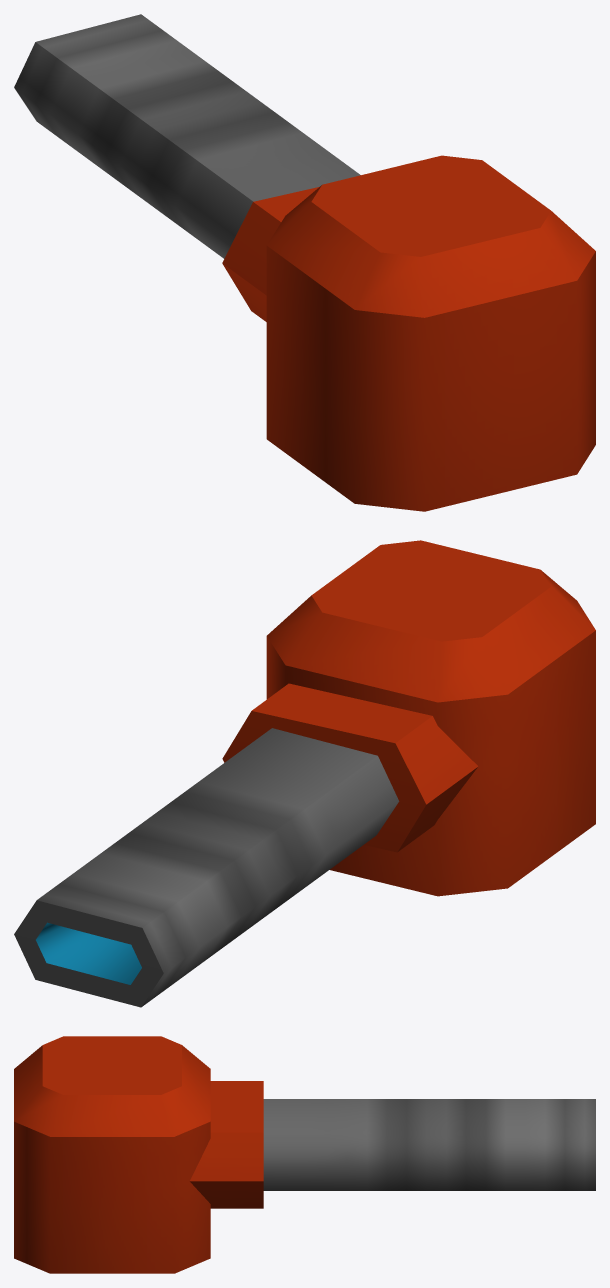
Rendered from MachineGun1Enemy6.fbx.
3 renders of one model, top to bottom at view 1: azimuth 30°, elevation 25°; view 2: azimuth 150°, elevation 25°; view 3: azimuth 270°, elevation 25°, orthographic. The views are drawn at different scales.
Parts seen in each view (by area): view 1: MachineGun1Enemy6; view 2: MachineGun1Enemy6; view 3: MachineGun1Enemy6.
Part boxes in pixels (box(x1,y1,x2,y2)): MachineGun1Enemy6: box(14, 14, 595, 511); MachineGun1Enemy6: box(14, 540, 595, 1007); MachineGun1Enemy6: box(14, 1036, 595, 1273).
Bounding box in the file's own units: 0.8578 × 0.29 × 0.271.
